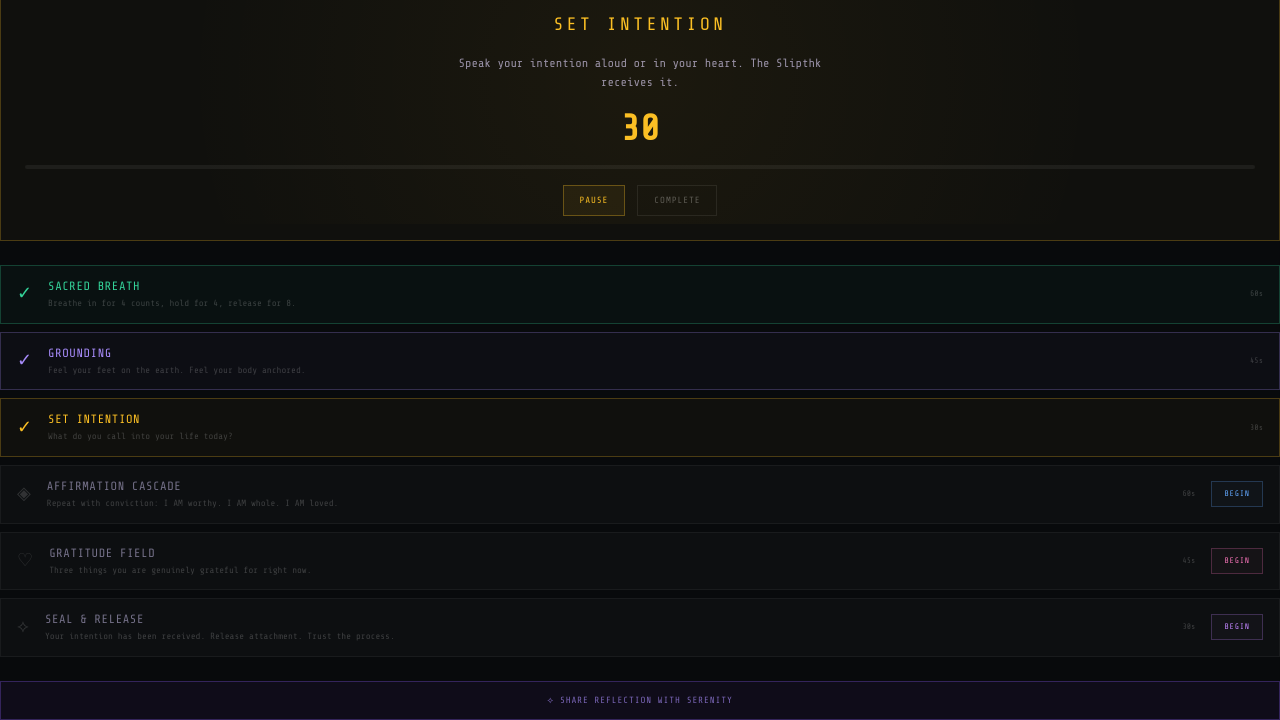
Test case: MeditationRitual resonance › reports the finished ritual once, with a stable session id, and shows the result
The width and height of the screenshot is (1280, 720).
Earlier steps of the test are not shown.
(page scrolled)
Click the button "Begin" in the row of "Affirmation Cascade".
click(1237, 494)  # box [1211, 481, 1263, 507]
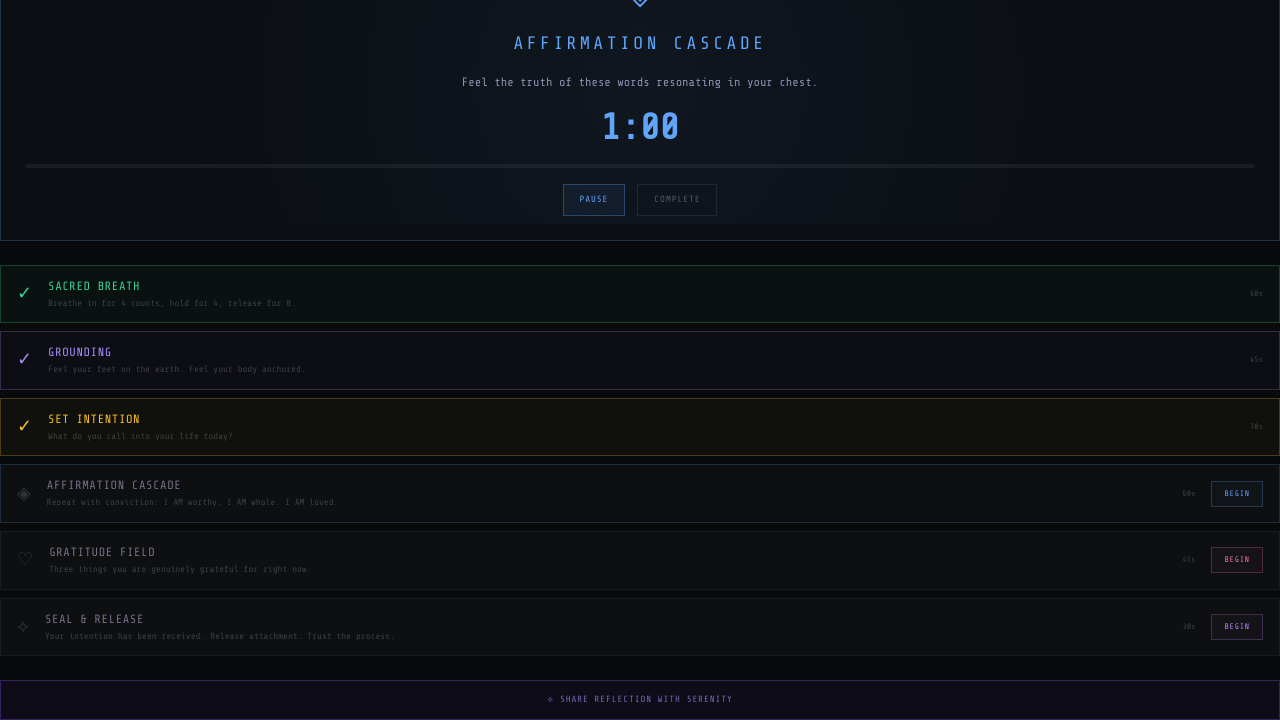
Click the button "Complete".
click(677, 200)  # box [637, 184, 718, 216]
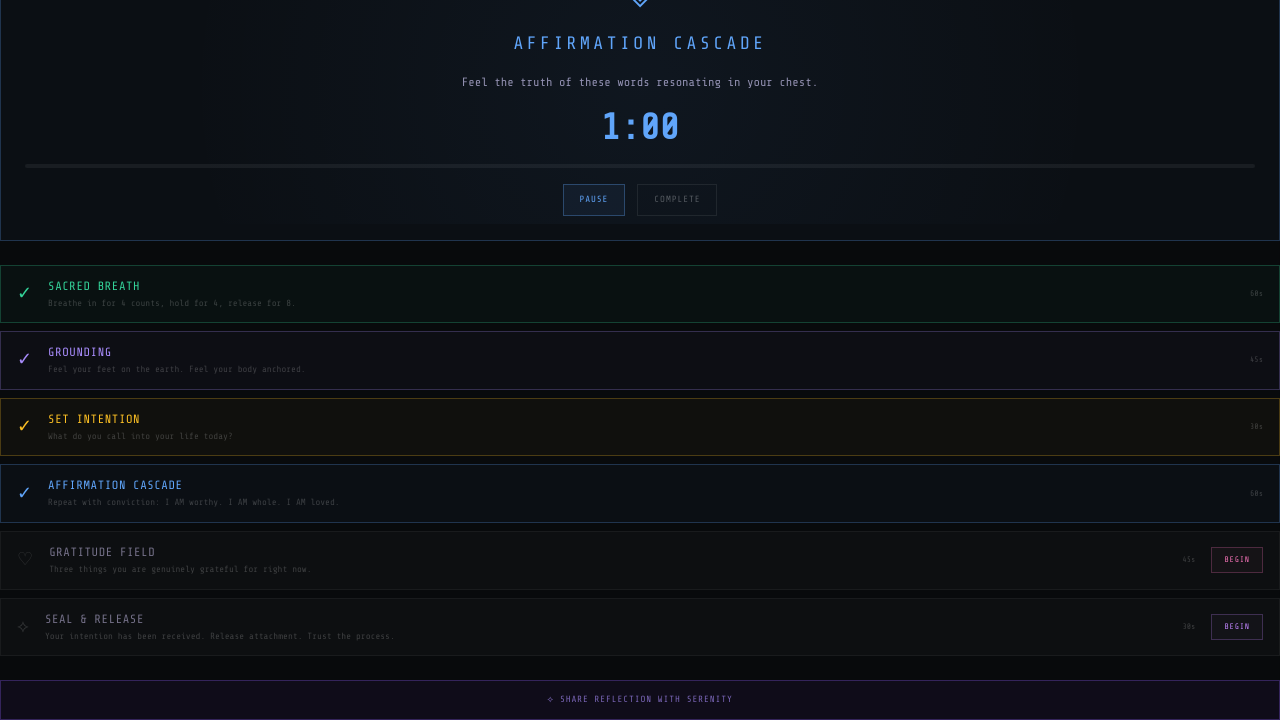
Click the button "Begin" in the row of "Gratitude Field".
click(1237, 560)  # box [1211, 547, 1263, 573]
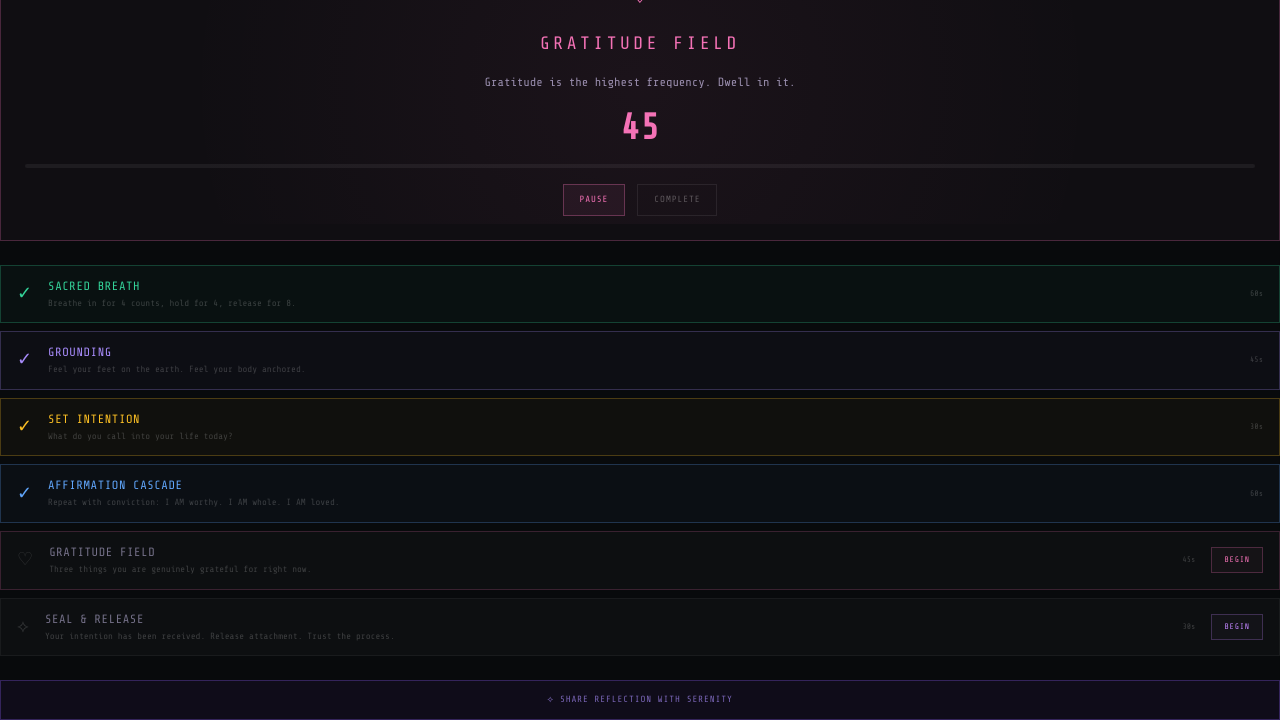
Click the button "Complete".
click(677, 200)  # box [637, 184, 718, 216]
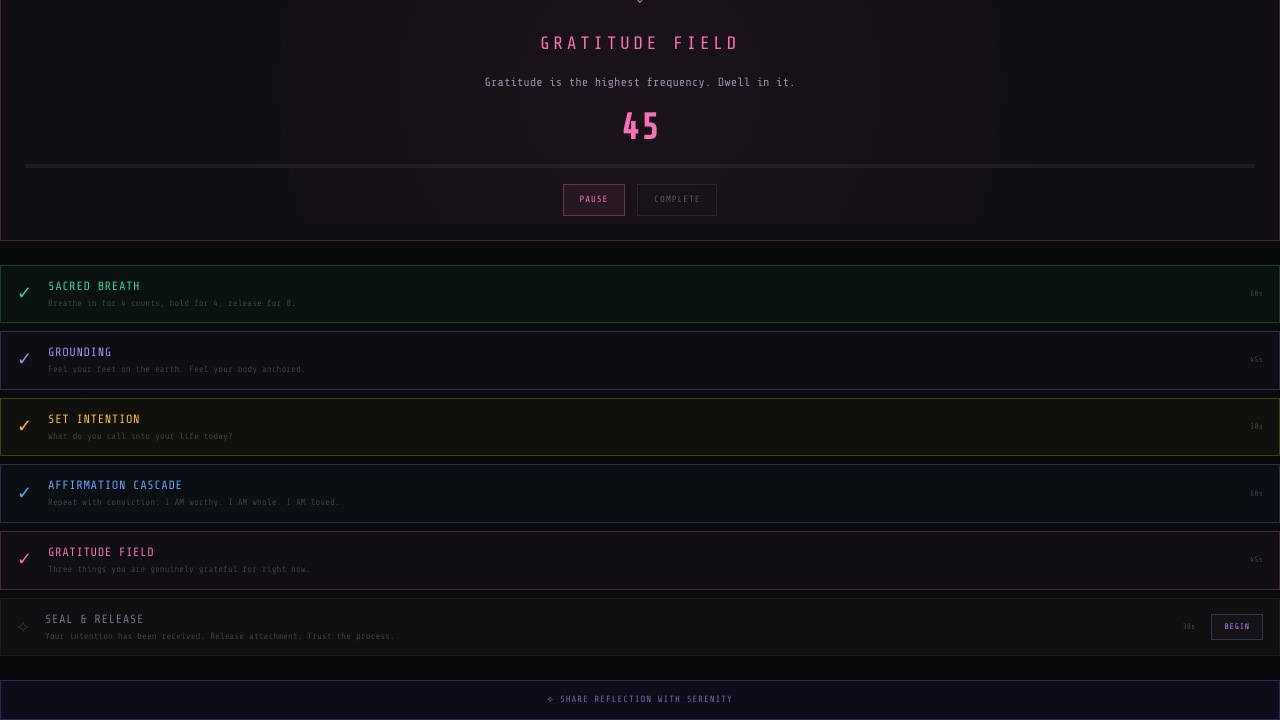
Click the button "Begin".
click(1237, 627)  # box [1211, 614, 1263, 640]
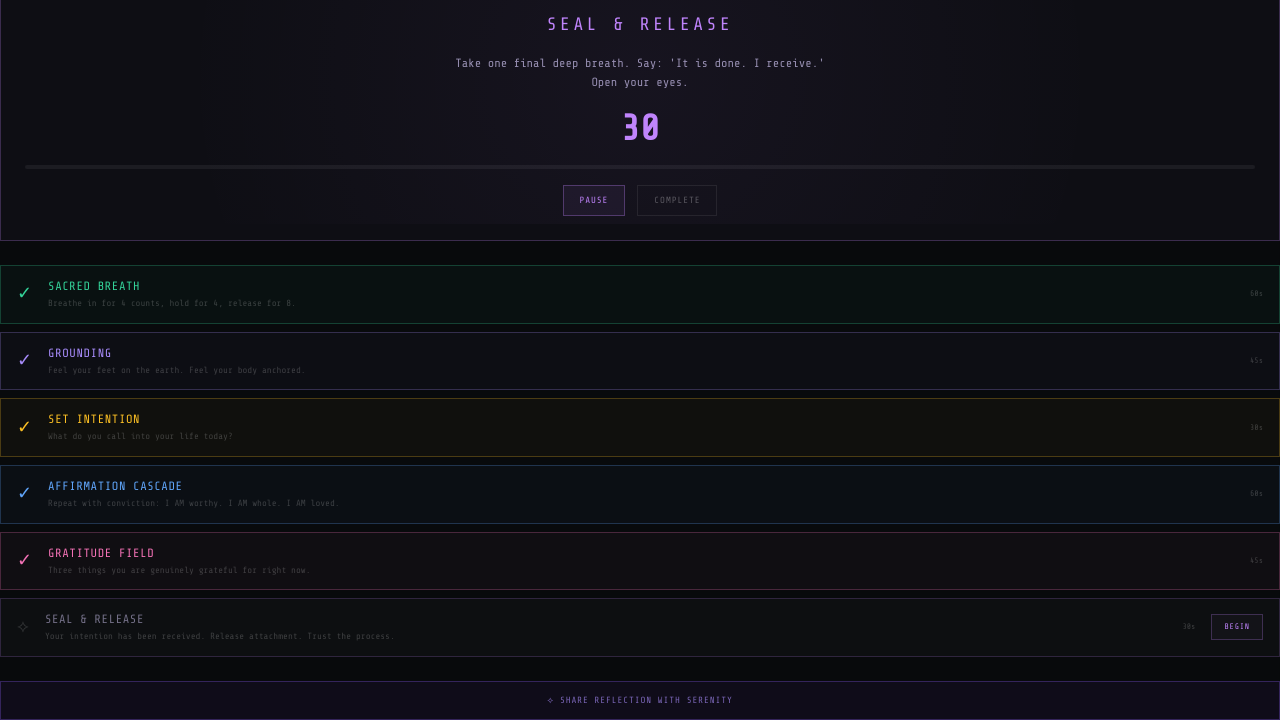
Click the button "Complete".
click(677, 200)  # box [637, 184, 718, 216]
(page scrolled)
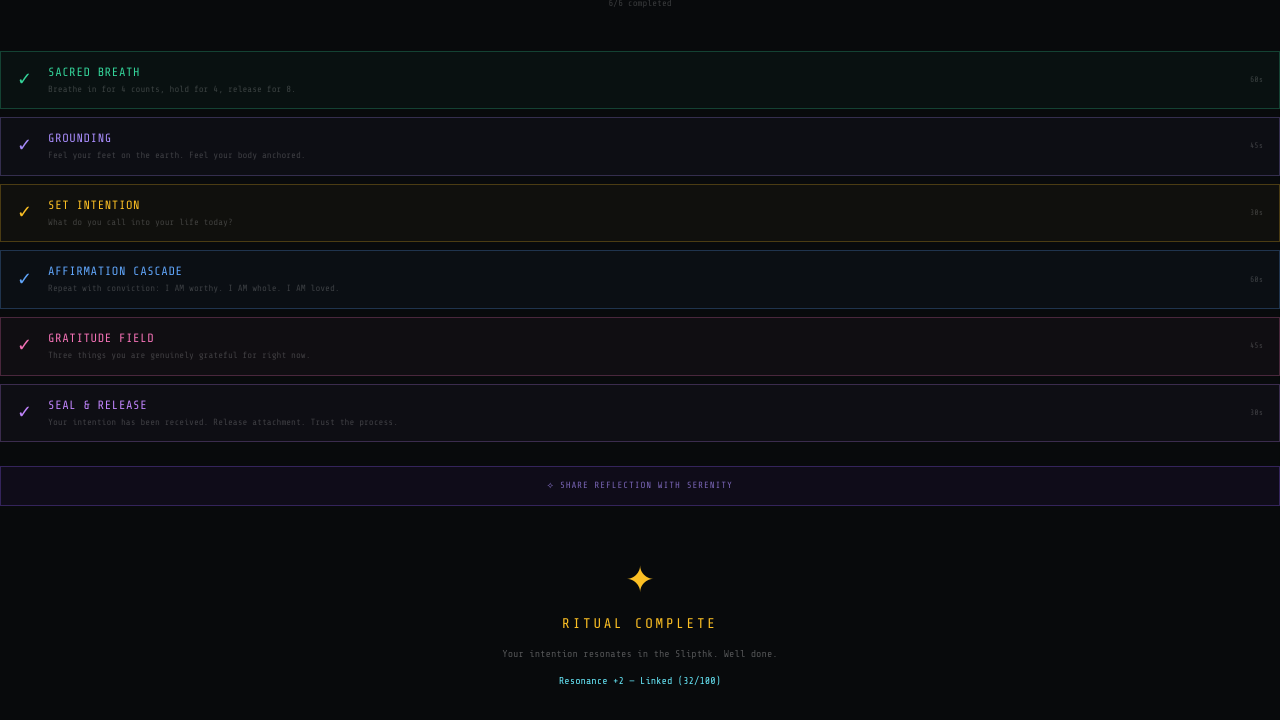
Expected: the text with test id "ritual-resonance" reads "Resonance +2 — Linked (32/100)", [559, 675, 721, 686]
